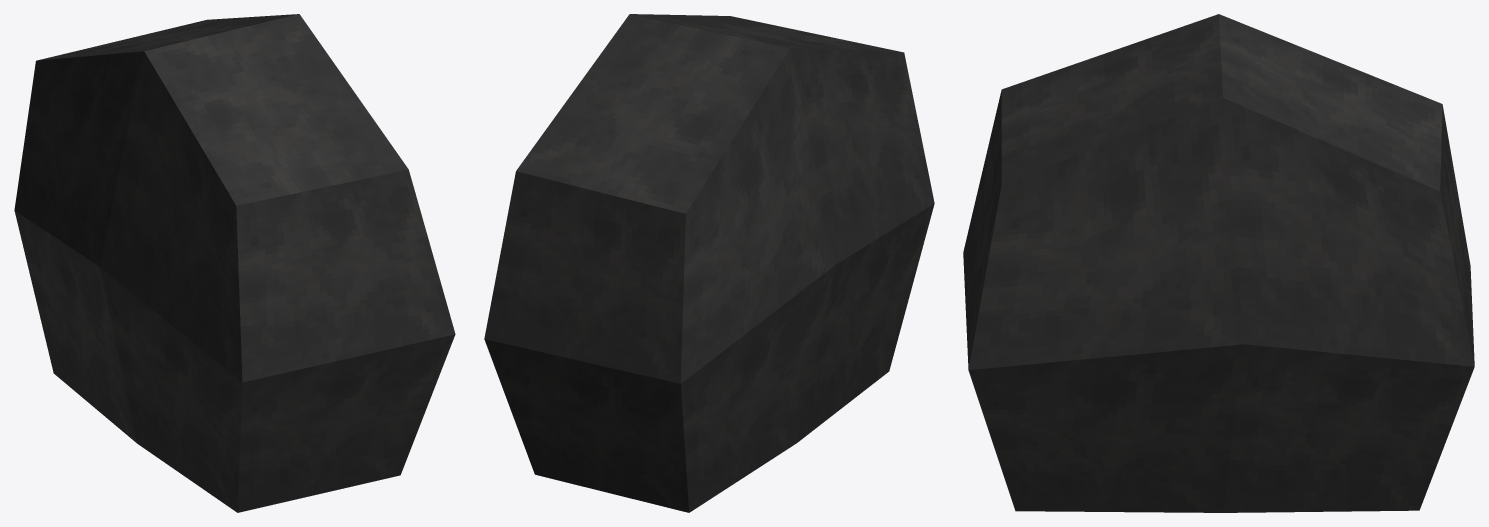
The model's file is vRock_01.glb.
3 views of the same model, side by side, from view 1: azimuth 30°, elevation 25°; view 2: azimuth 150°, elevation 25°; view 3: azimuth 270°, elevation 25° (orthographic). The views are drawn at different scales.
Visible parts, largest first — view 1: vRock-col; view 2: vRock-col; view 3: vRock-col.
Part boxes in pixels (<box>): vRock-col: <box>14,14,455,512</box>; vRock-col: <box>484,14,934,512</box>; vRock-col: <box>963,14,1474,512</box>.
Size of the model in its own units: 2.06 by 3.08 by 3.43.
Materials: 1 (1 with a texture image).
